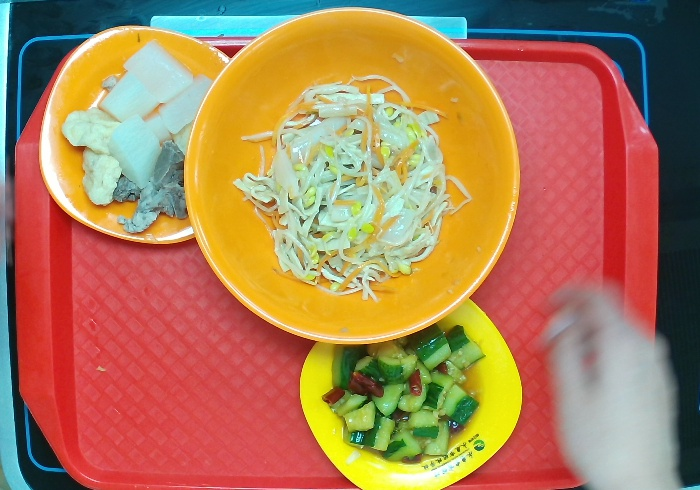YKMZ-Huang_Se_Fang_Die: (292, 293, 526, 490)
YKMZ-Ju_Se_Fang_Die: (39, 22, 217, 244)
YKMZ-Ju_Se_Tang_Wan: (183, 5, 522, 346)
